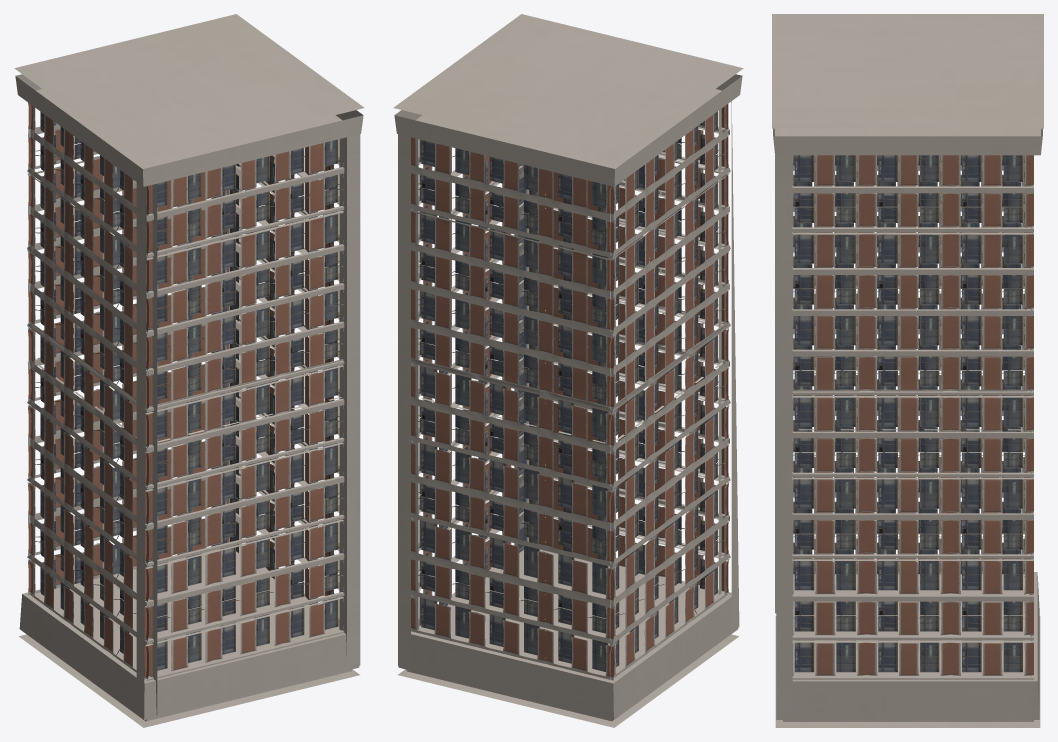
3 renders of one model, left to right at view 1: azimuth 30°, elevation 25°; view 2: azimuth 150°, elevation 25°; view 3: azimuth 270°, elevation 25°, orthographic. The views are drawn at different scales.
Bounding box in the file's own units: 3.25 × 7.92 × 3.25.
2 materials, 2 textured.
